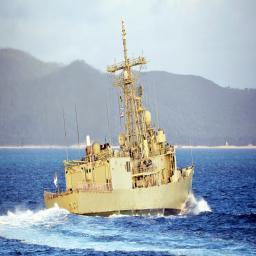Fragata: (44, 17, 198, 217)
